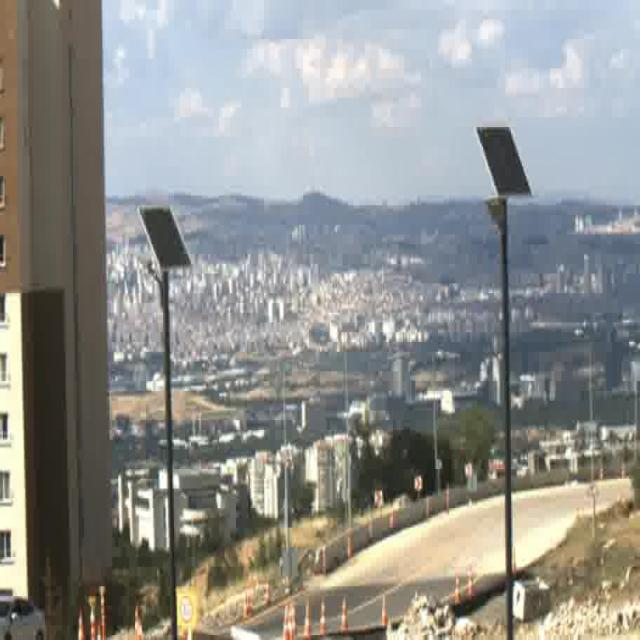Car: (0, 591, 44, 640)
